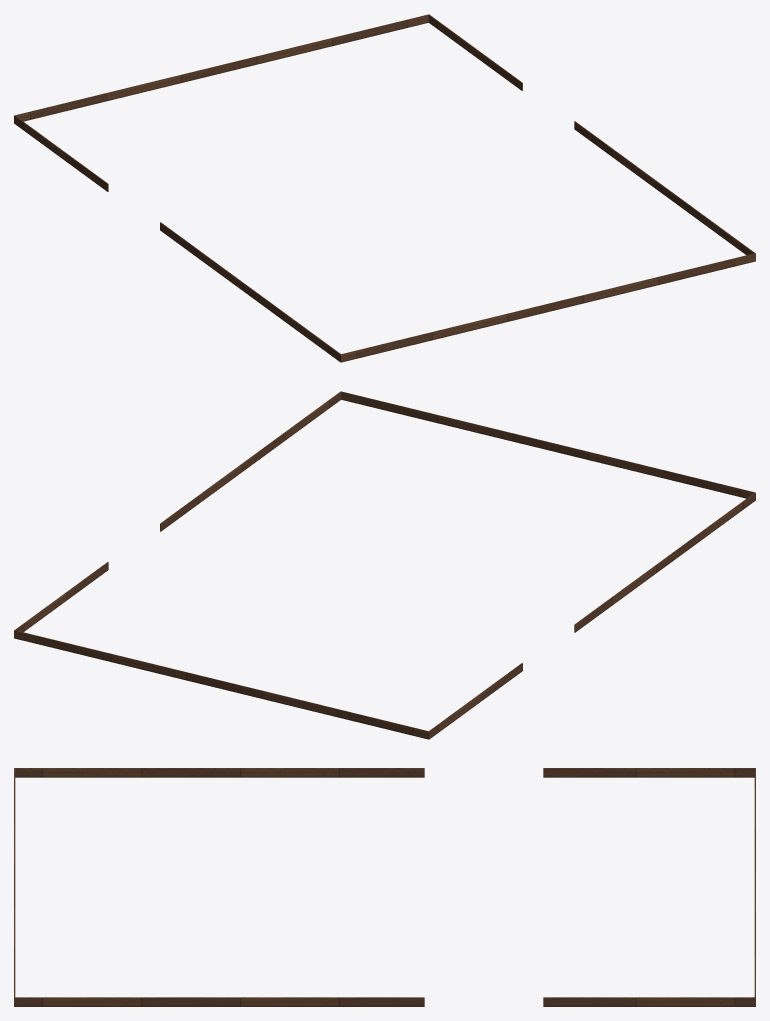
File: o_plan.glb
3 renders of one model, top to bottom at view 1: azimuth 30°, elevation 25°; view 2: azimuth 150°, elevation 25°; view 3: azimuth 270°, elevation 25°, orthographic. The views are drawn at different scales.
Visible parts, largest first — view 1: o_plan_dkwood; view 2: o_plan_dkwood; view 3: o_plan_dkwood.
Boxes of the visible parts, <box> form: o_plan_dkwood: <box>14,14,755,362</box>; o_plan_dkwood: <box>14,391,755,739</box>; o_plan_dkwood: <box>14,768,755,1006</box>.
Size of the model in its own units: 5.5 by 0.1 by 7.5.
Materials: 1 (1 with a texture image).
